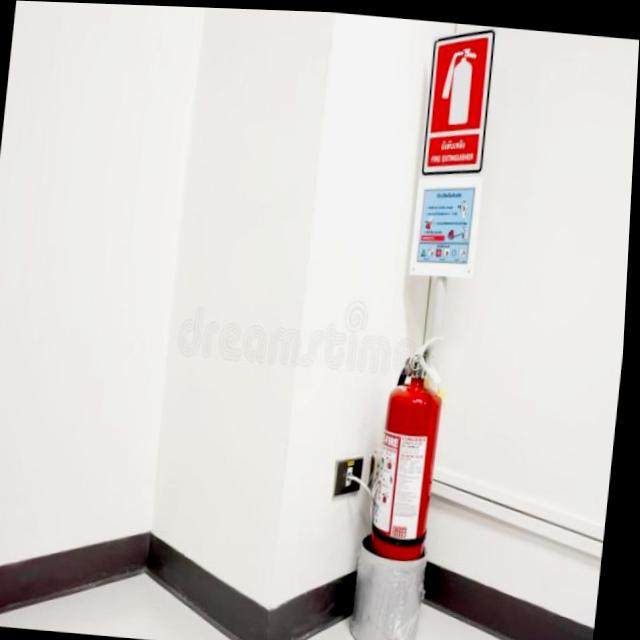FireExtinguisher: (358, 320, 462, 639)
